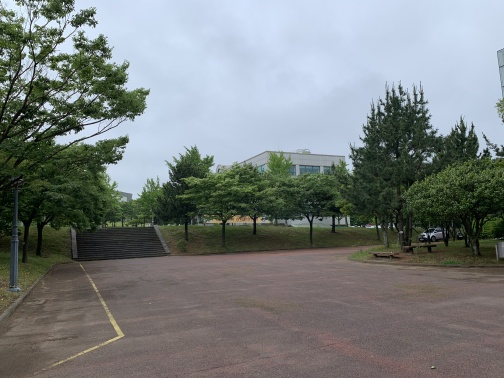Second Library: (217, 143, 353, 179)
